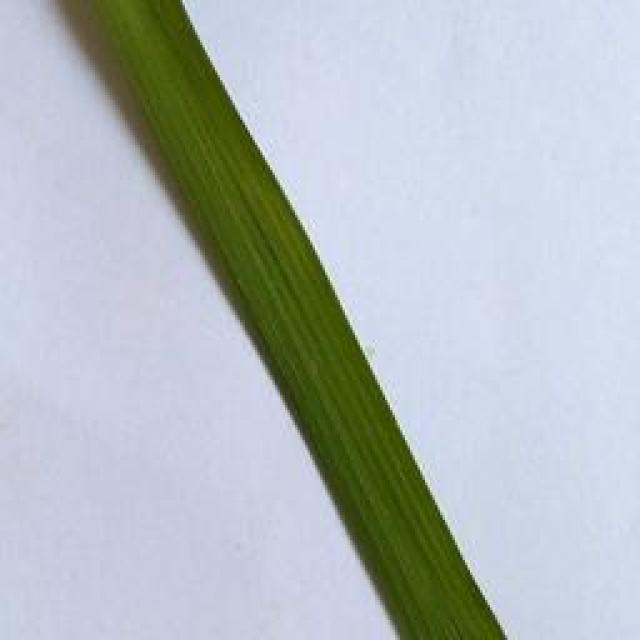Healthy-Plant: (82, 0, 505, 640)
